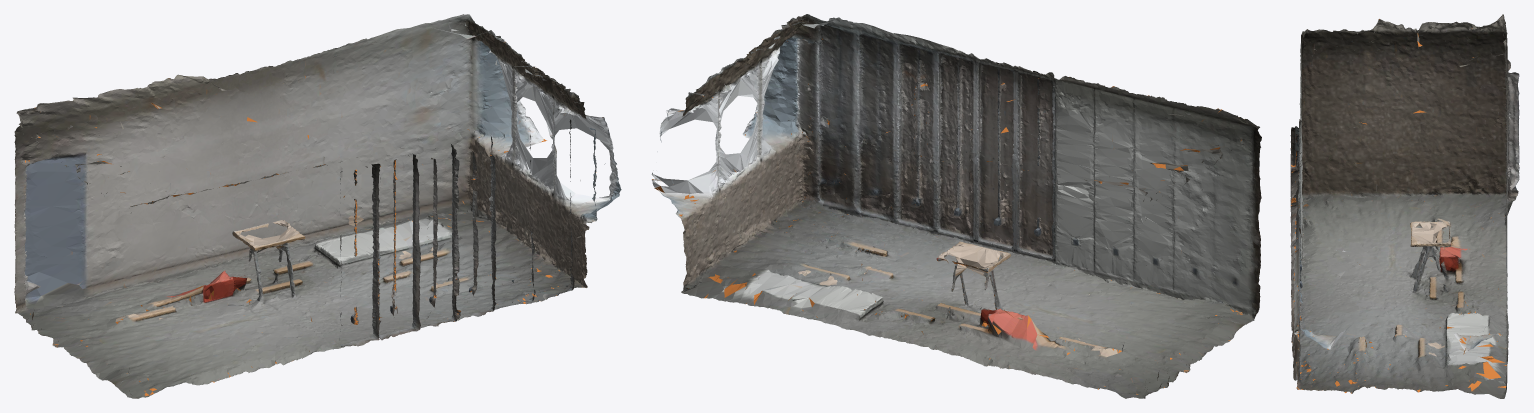
The picture shows the model from 3 angles, left to right: view 1: azimuth 30°, elevation 25°; view 2: azimuth 150°, elevation 25°; view 3: azimuth 270°, elevation 25°; orthographic projection. The views are drawn at different scales.
Parts seen in each view (by area): view 1: textured.obj; view 2: textured.obj; view 3: textured.obj.
Part boxes in pixels (left/top/right/bottom): textured.obj: left=14, top=14, right=621, bottom=398; textured.obj: left=651, top=14, right=1261, bottom=398; textured.obj: left=1290, top=14, right=1519, bottom=398.
Size of the model in its own units: 8.1 by 3.25 by 3.54.
1 material, 1 textured.
